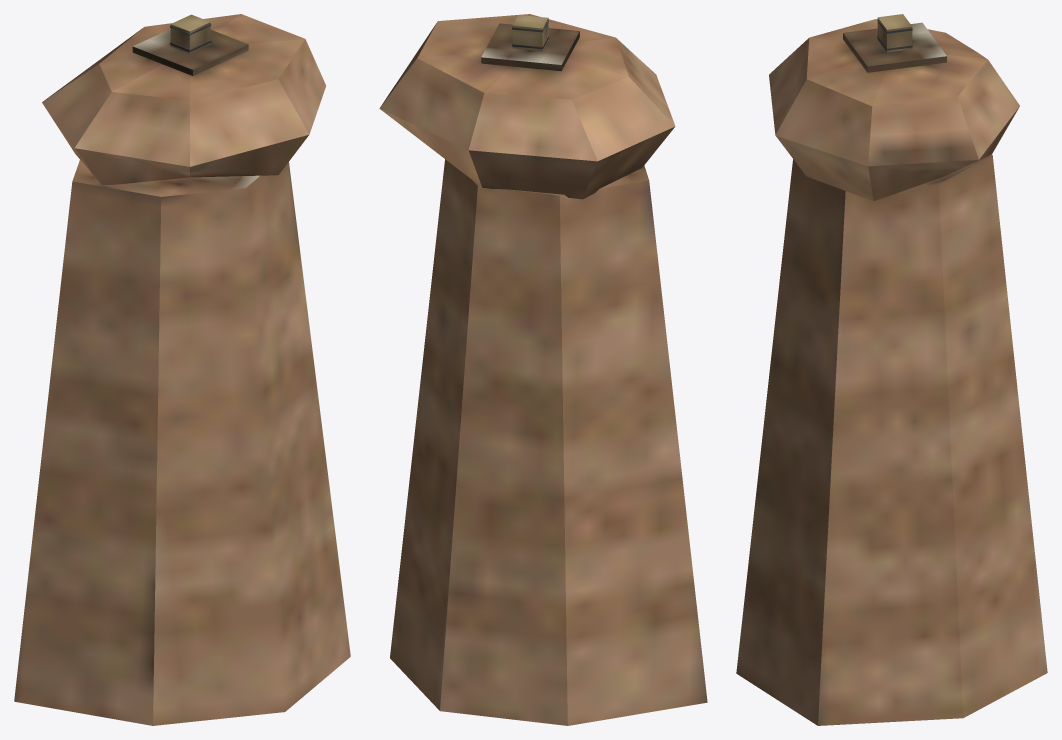
The model's file is SM_Hoodoo.fbx.
The picture shows the model from 3 angles, left to right: view 1: azimuth 30°, elevation 25°; view 2: azimuth 150°, elevation 25°; view 3: azimuth 270°, elevation 25°; orthographic projection.
Parts seen in each view (by area): view 1: SM_Hoodoo; view 2: SM_Hoodoo; view 3: SM_Hoodoo.
Boxes of the visible parts, x1=… form: SM_Hoodoo: x1=14, y1=14, x2=350, y2=725; SM_Hoodoo: x1=379, y1=14, x2=707, y2=725; SM_Hoodoo: x1=736, y1=14, x2=1047, y2=725.
Size of what is drawn, in the model's own units: 1007 by 2047 by 897.
Materials: 1 (1 with a texture image).
